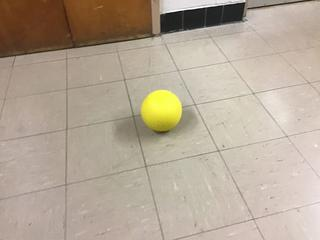power_cell: (141, 91, 182, 132)
